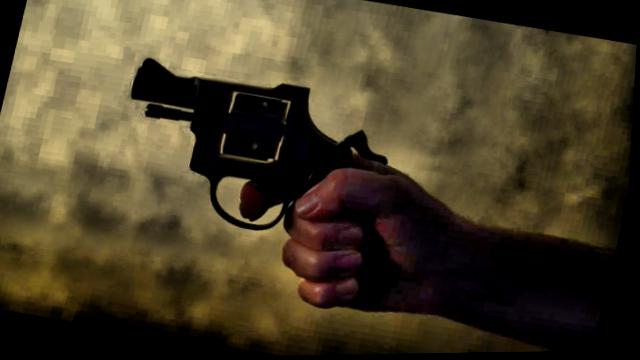pistol: (103, 51, 412, 255)
